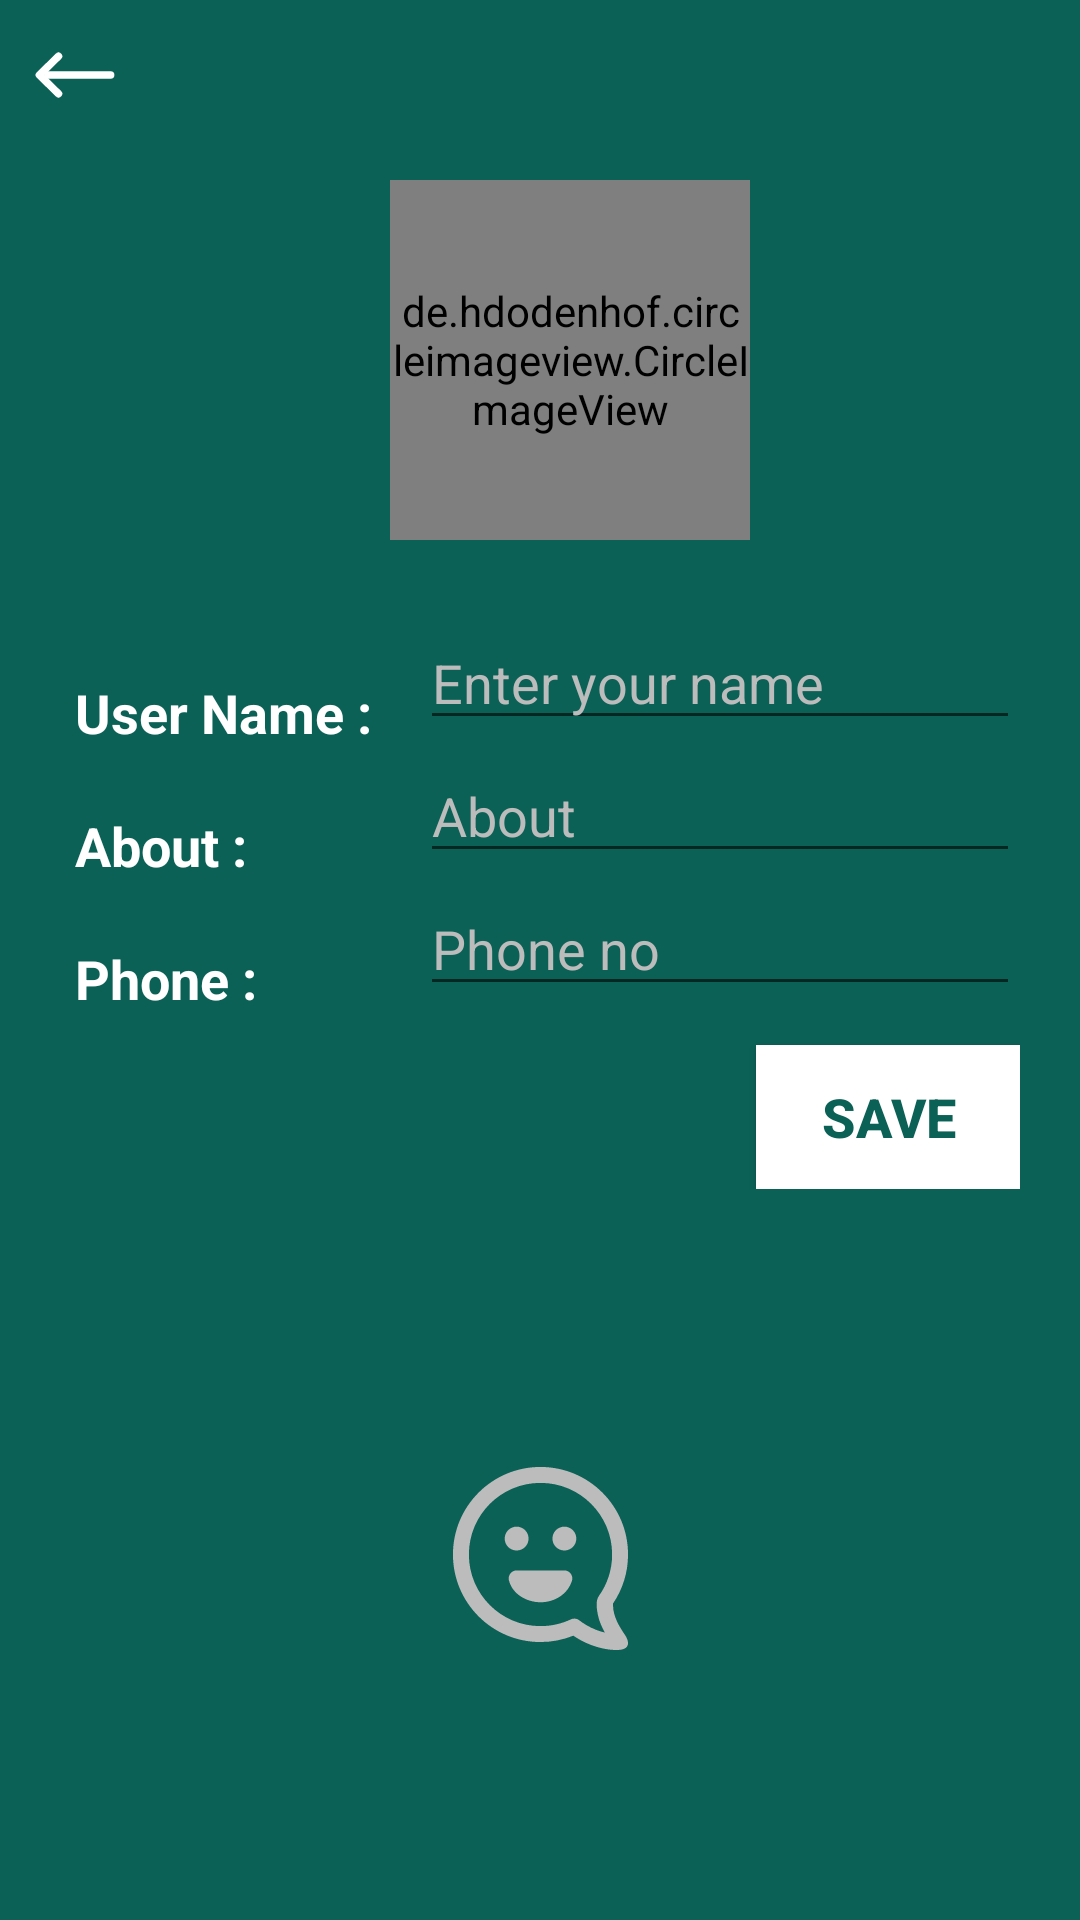

Where icons sit on this 1080w x 1920h app screen, as (x1, y1, x2, y2):
arrow left: (35, 52, 115, 98)
chat emoji: (453, 1467, 628, 1650)
